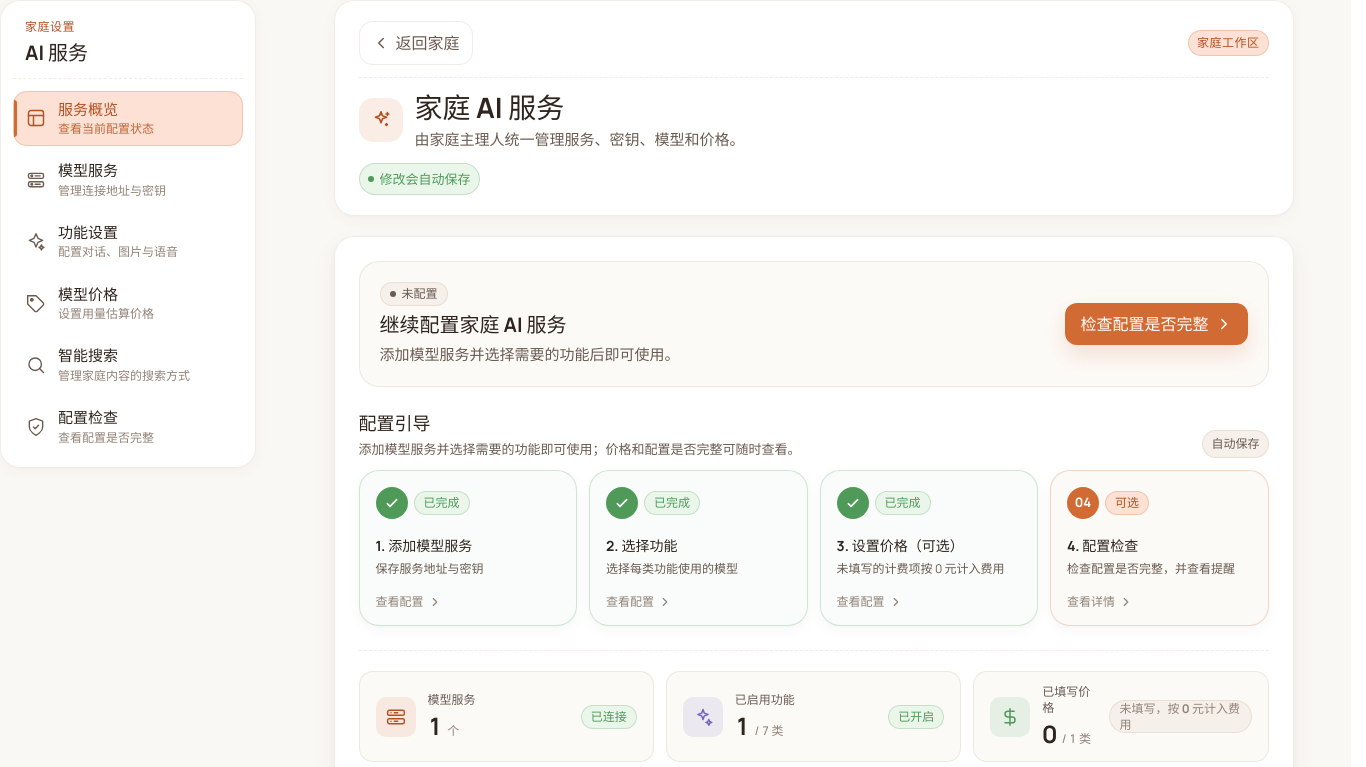
Scenario: FamilyModelSettingsWorkspace › retries a failed autosave without another edit
Click the button "功能设置 配置对话、图片与语音": [128, 242] box [13,214,243,270]
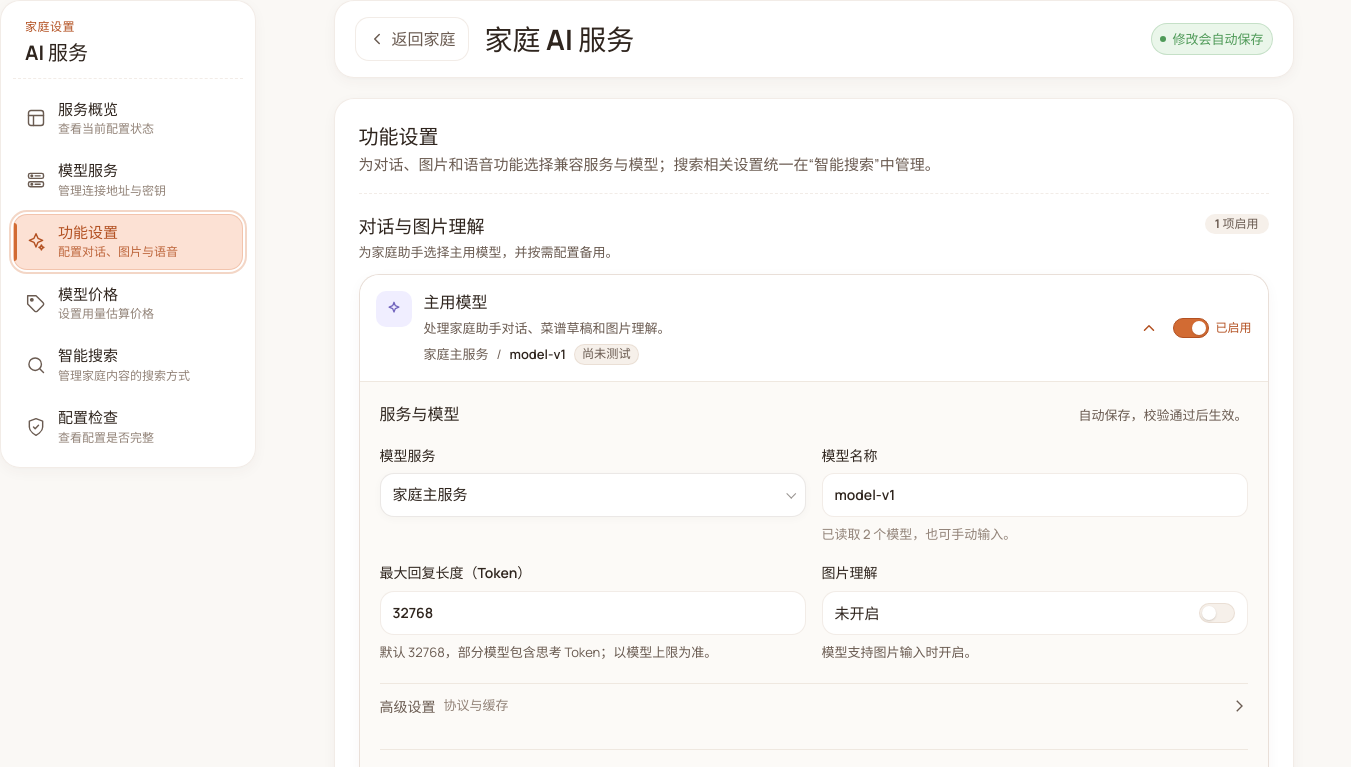
Replace the text in the dropdown named "模型名称" with "model-v2": [1034, 495] box [822,473,1248,517]
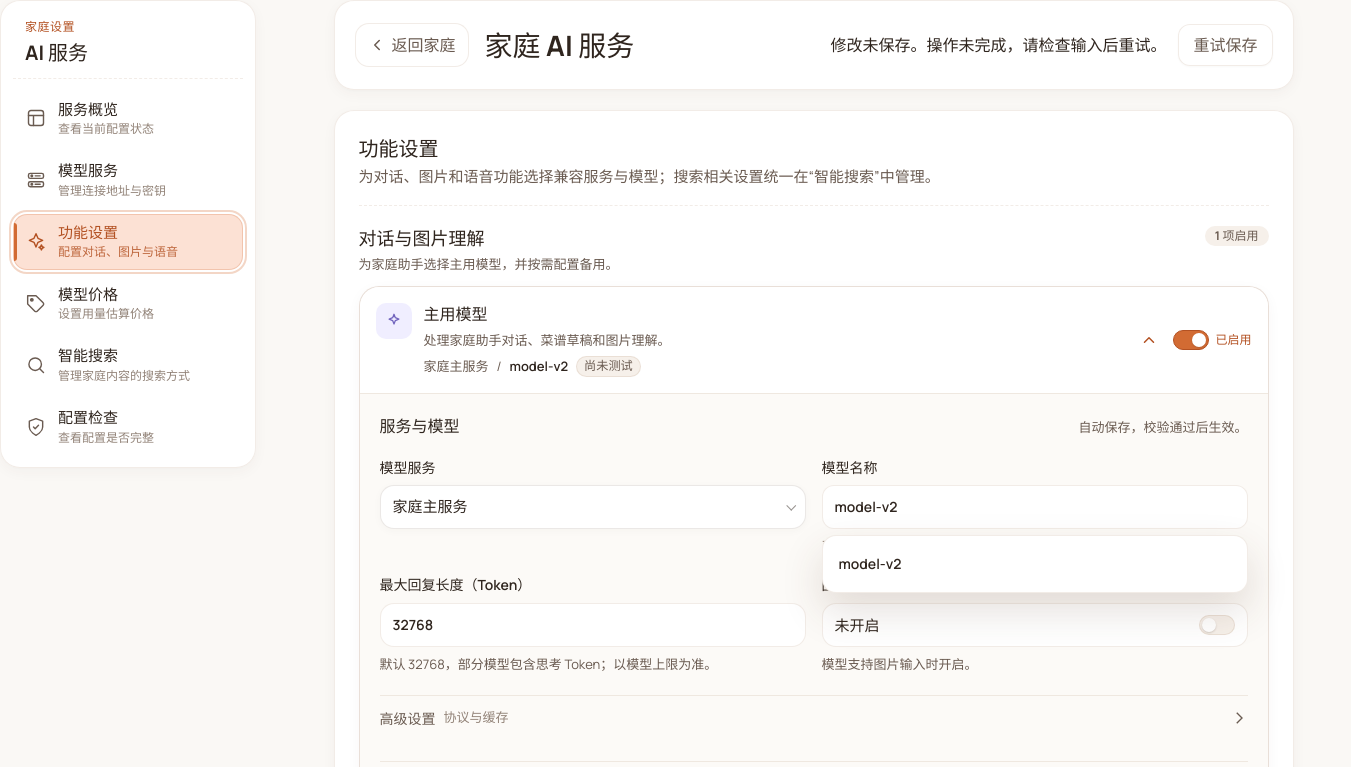
Click the button "重试保存": [1226, 45] box [1178,24,1272,66]
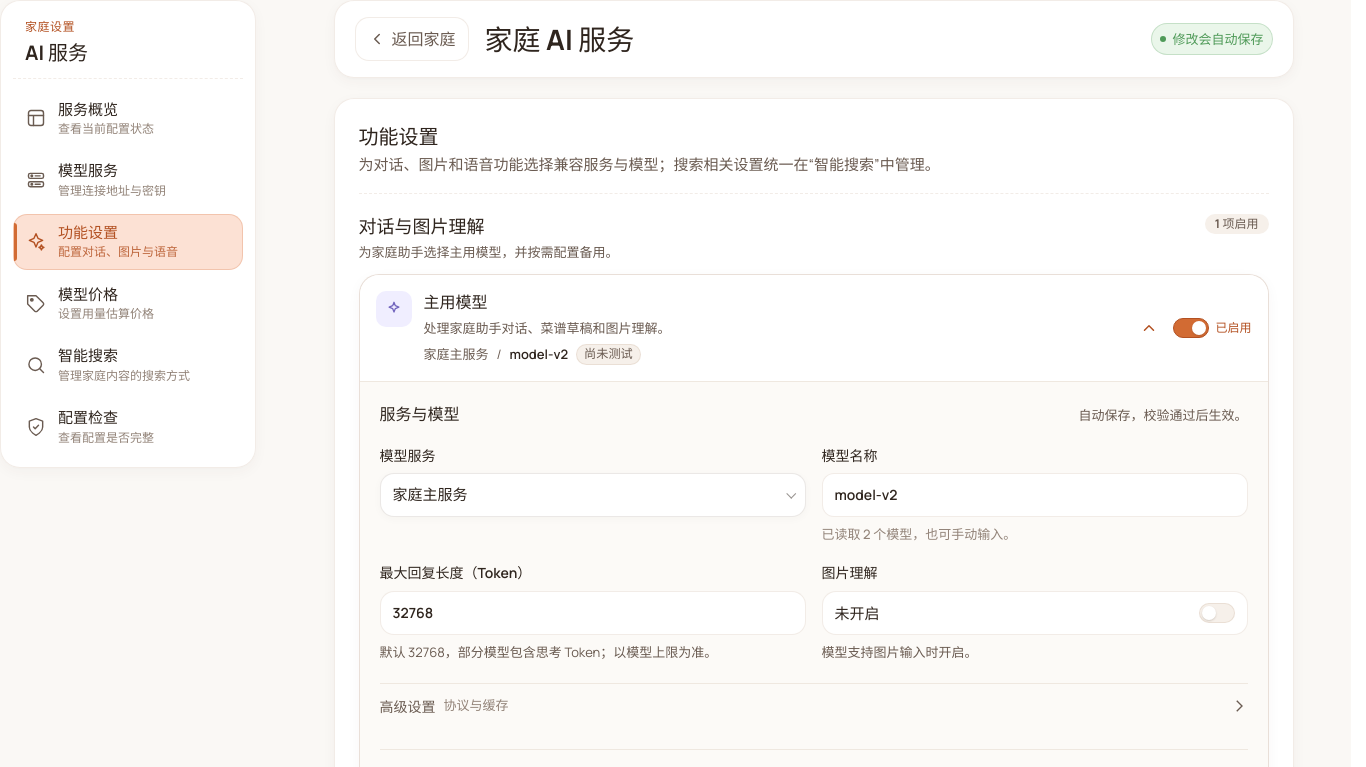
Result: the button "重试保存" is gone
